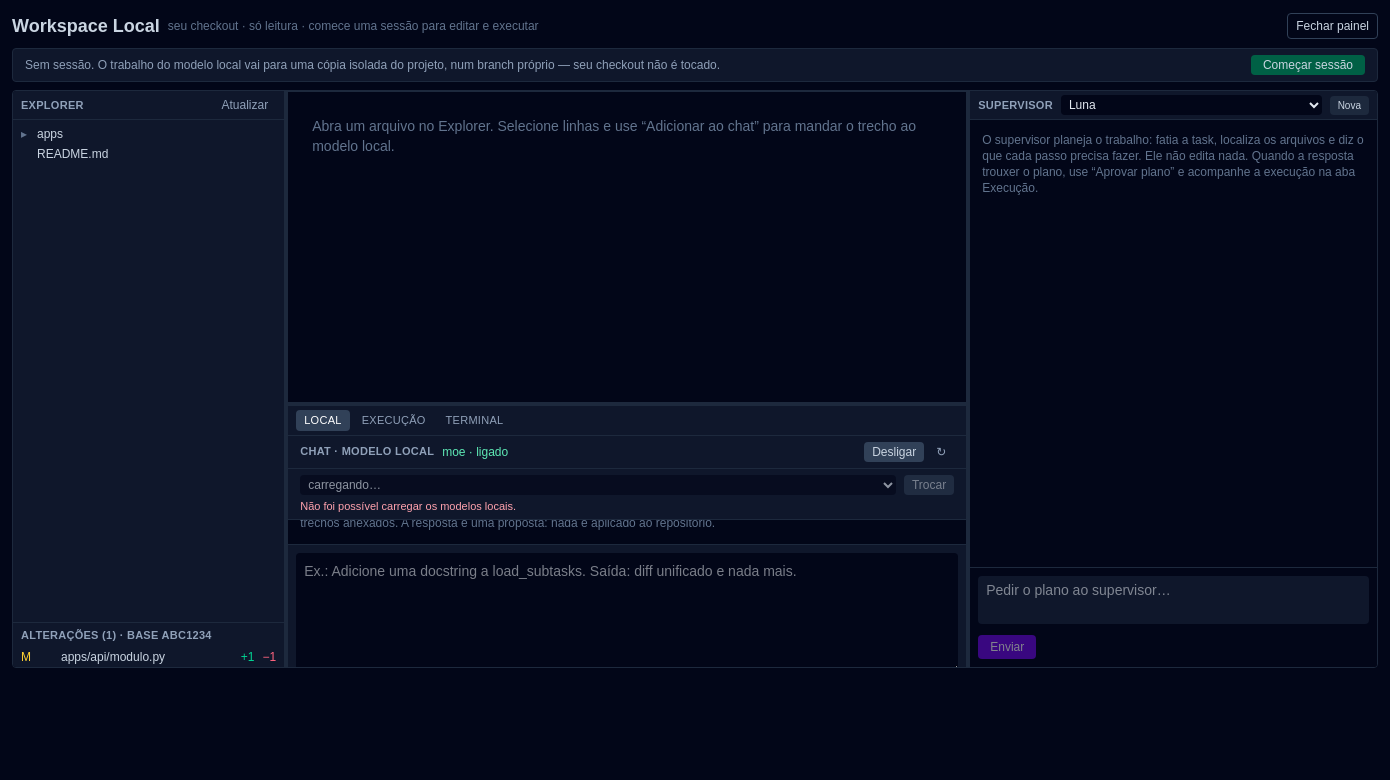
Test case: Workspace Local › lista alterações e abre o diff do git
The width and height of the screenshot is (1390, 780).
(page scrolled)
Click the button "M apps/api/modulo.py +1 −1": (149, 657) [13,647,284,667]
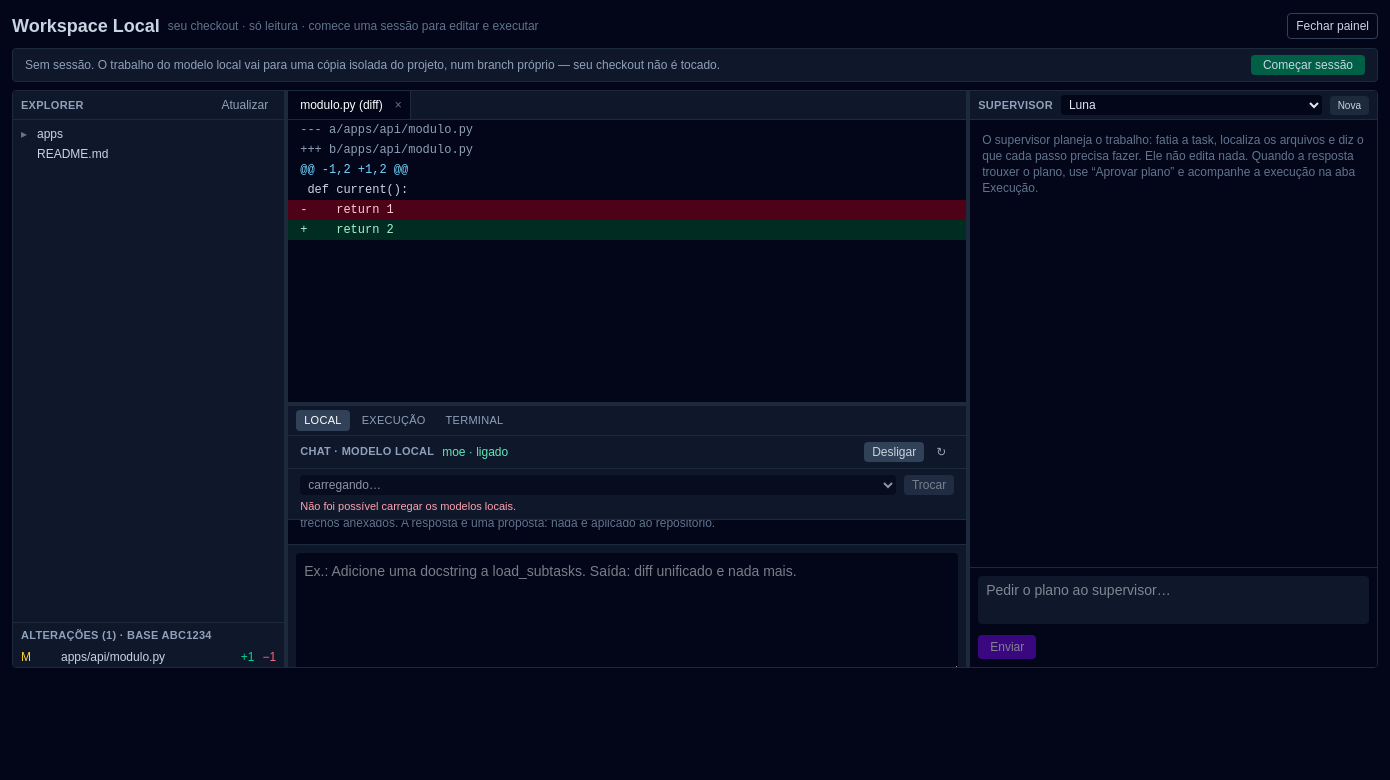
Result: the element named "Diff de apps/api/modulo.py" shows "- return 1" at [300,203,394,217]
